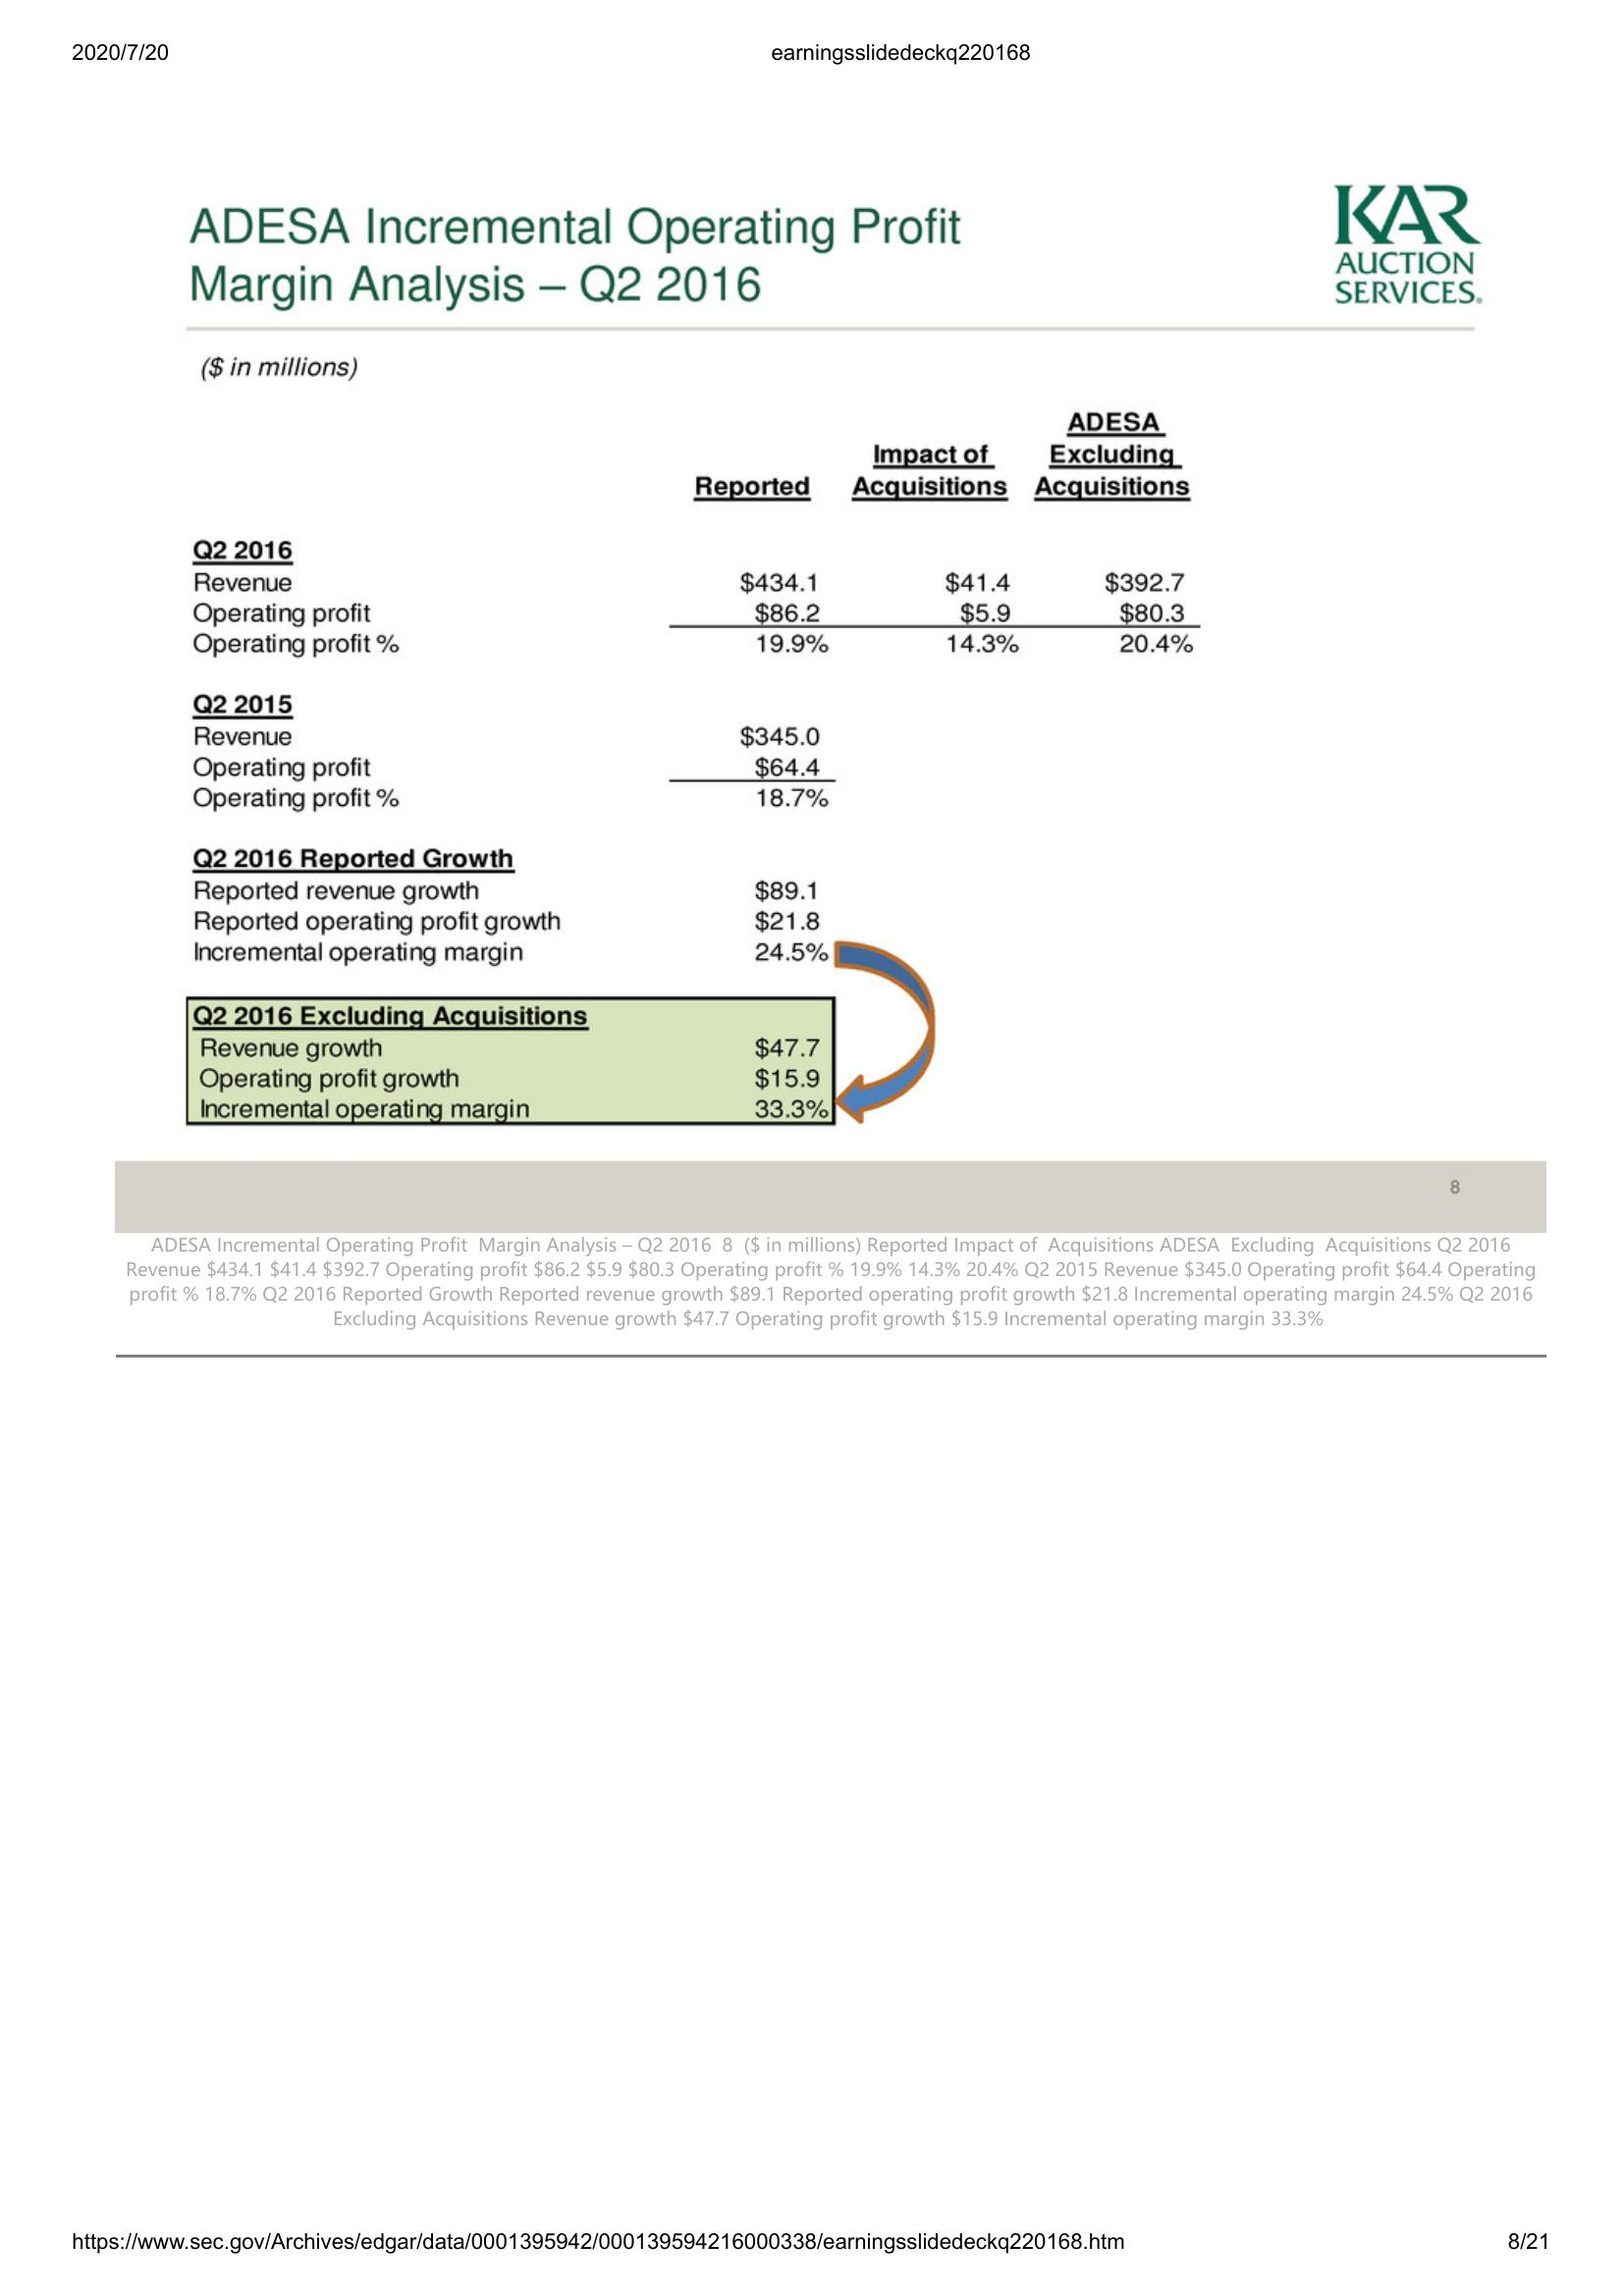table: (184, 395, 1217, 1139)
